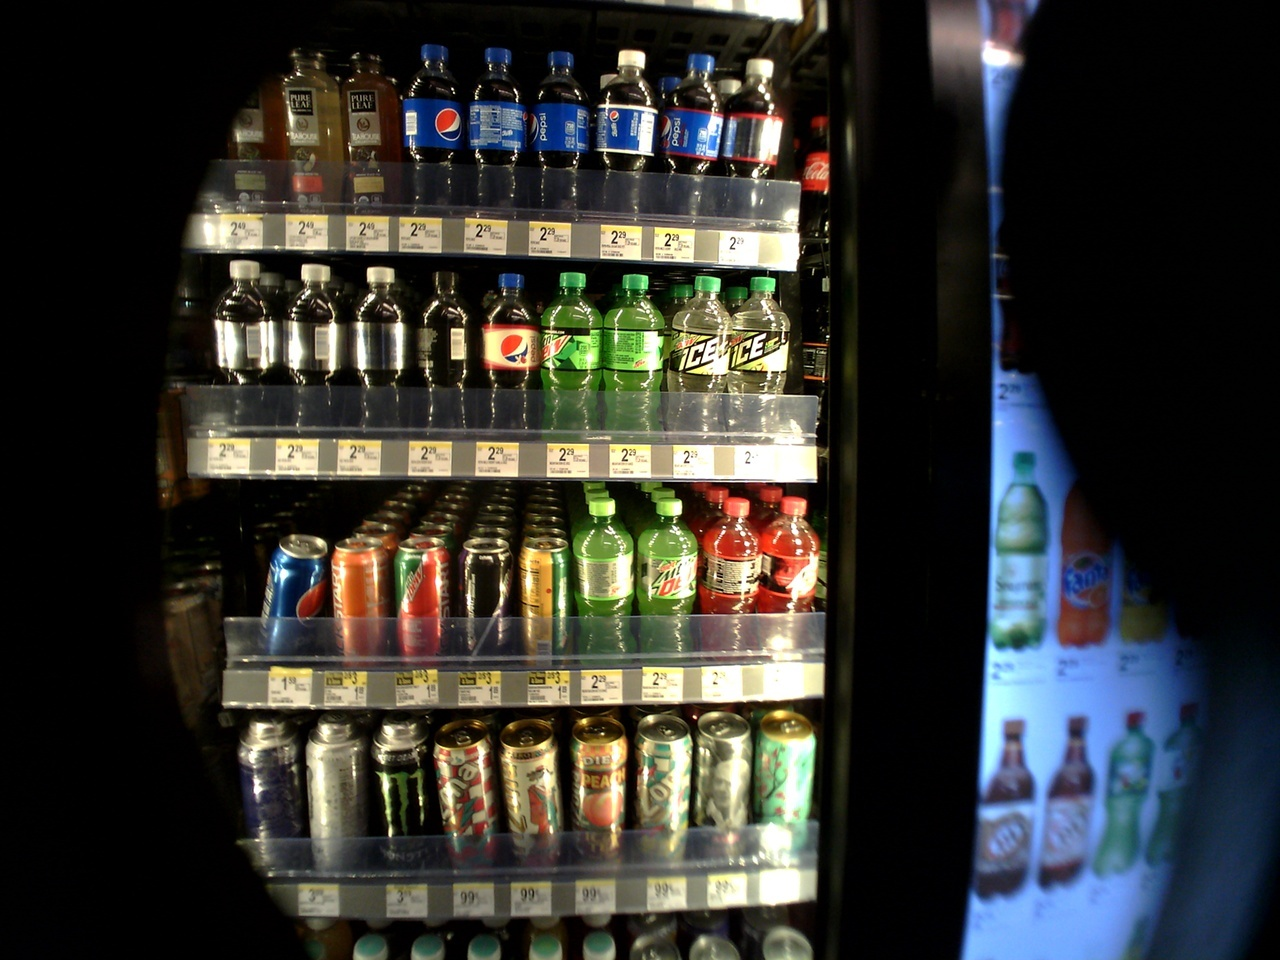shelf: (194, 10, 820, 253), (166, 255, 812, 476), (172, 496, 836, 695), (191, 708, 833, 891)
